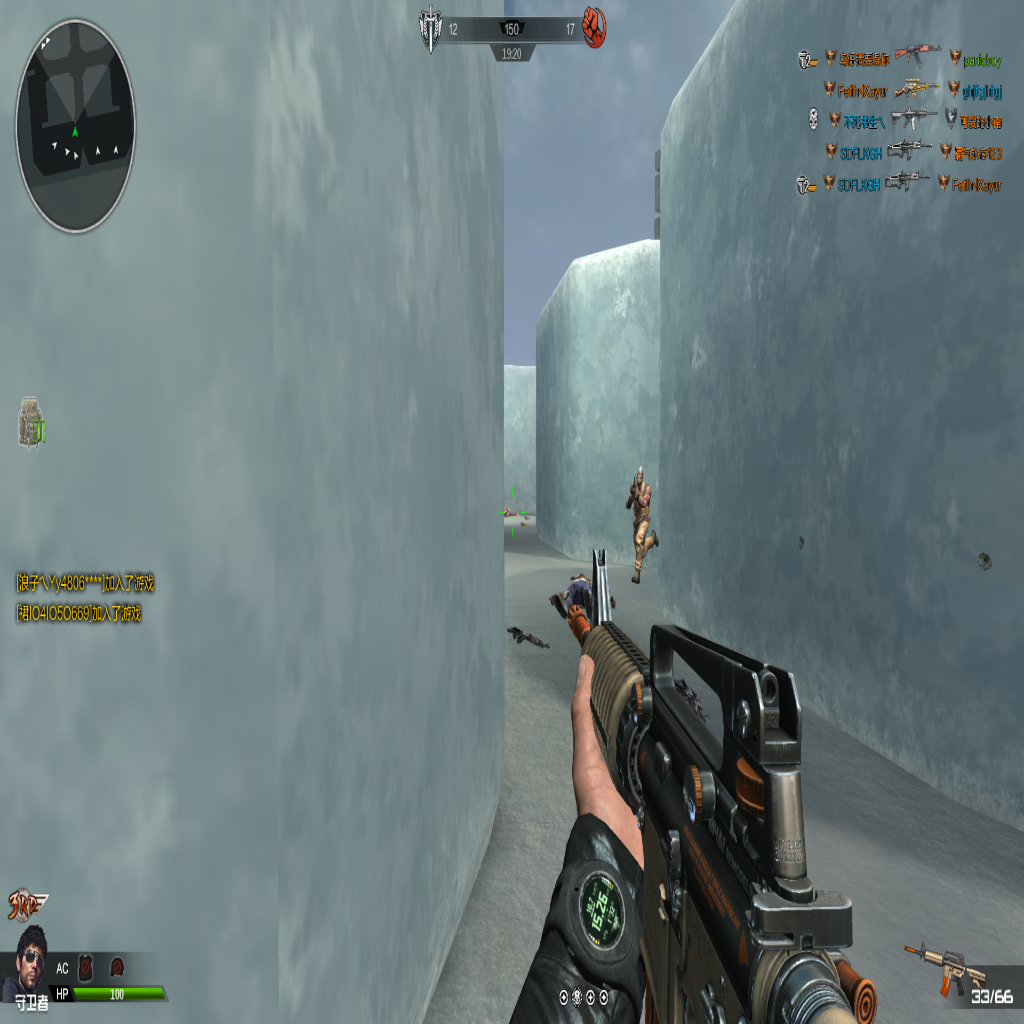tt: (628, 466, 655, 580)
